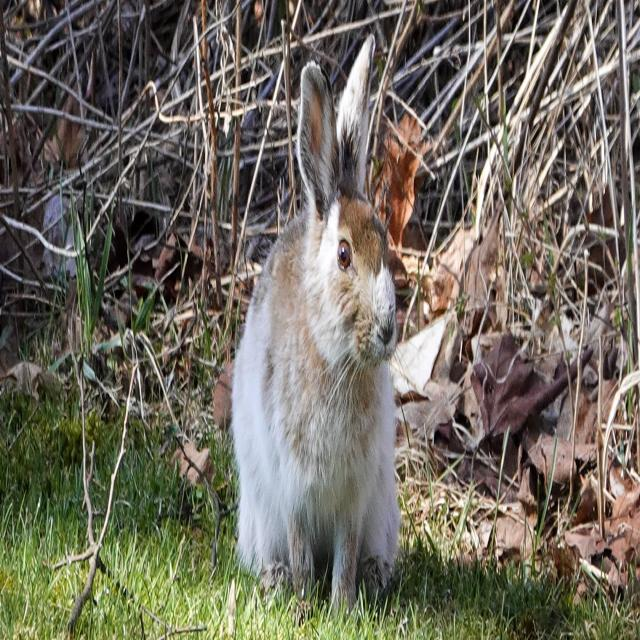Hare: (228, 30, 417, 627)
